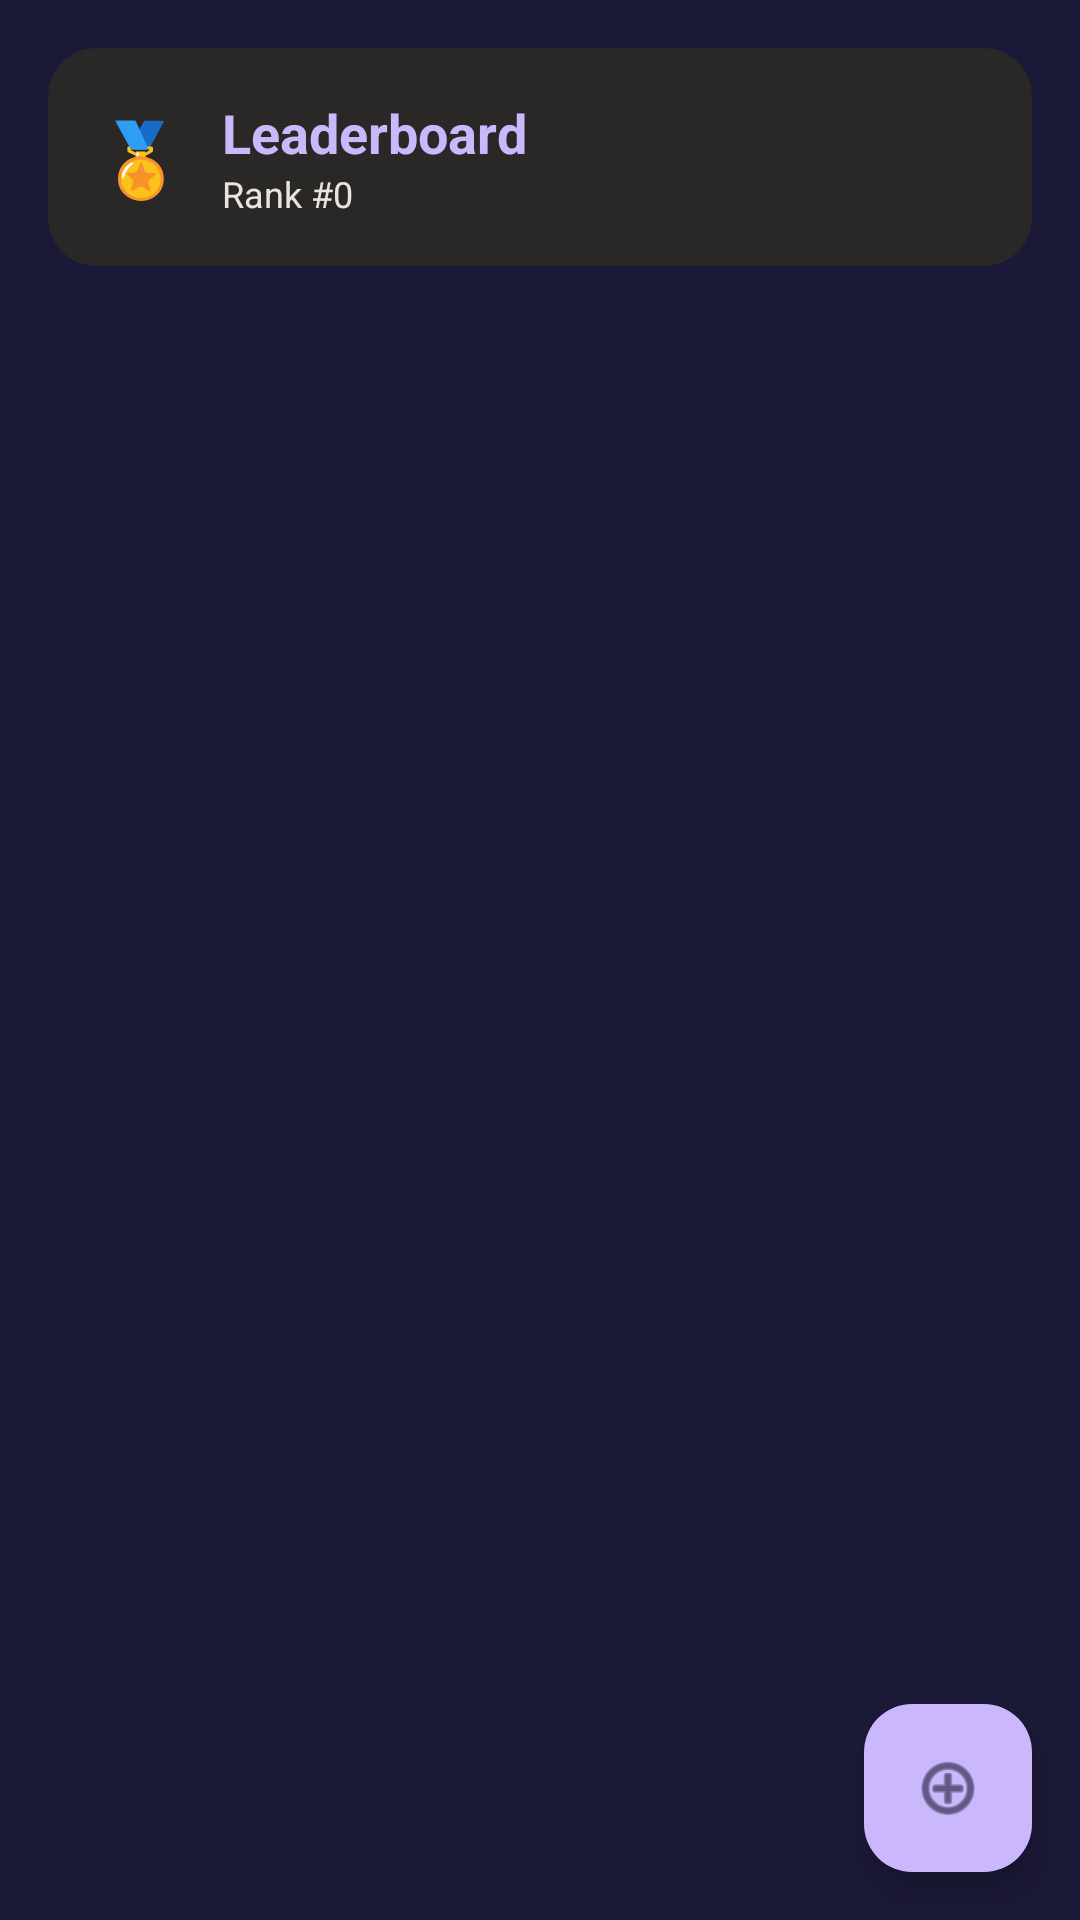

Icons on this 1080 x 1920 Android screen, each with the point to tap as (x,y):
Add Friend: (948,1788)
